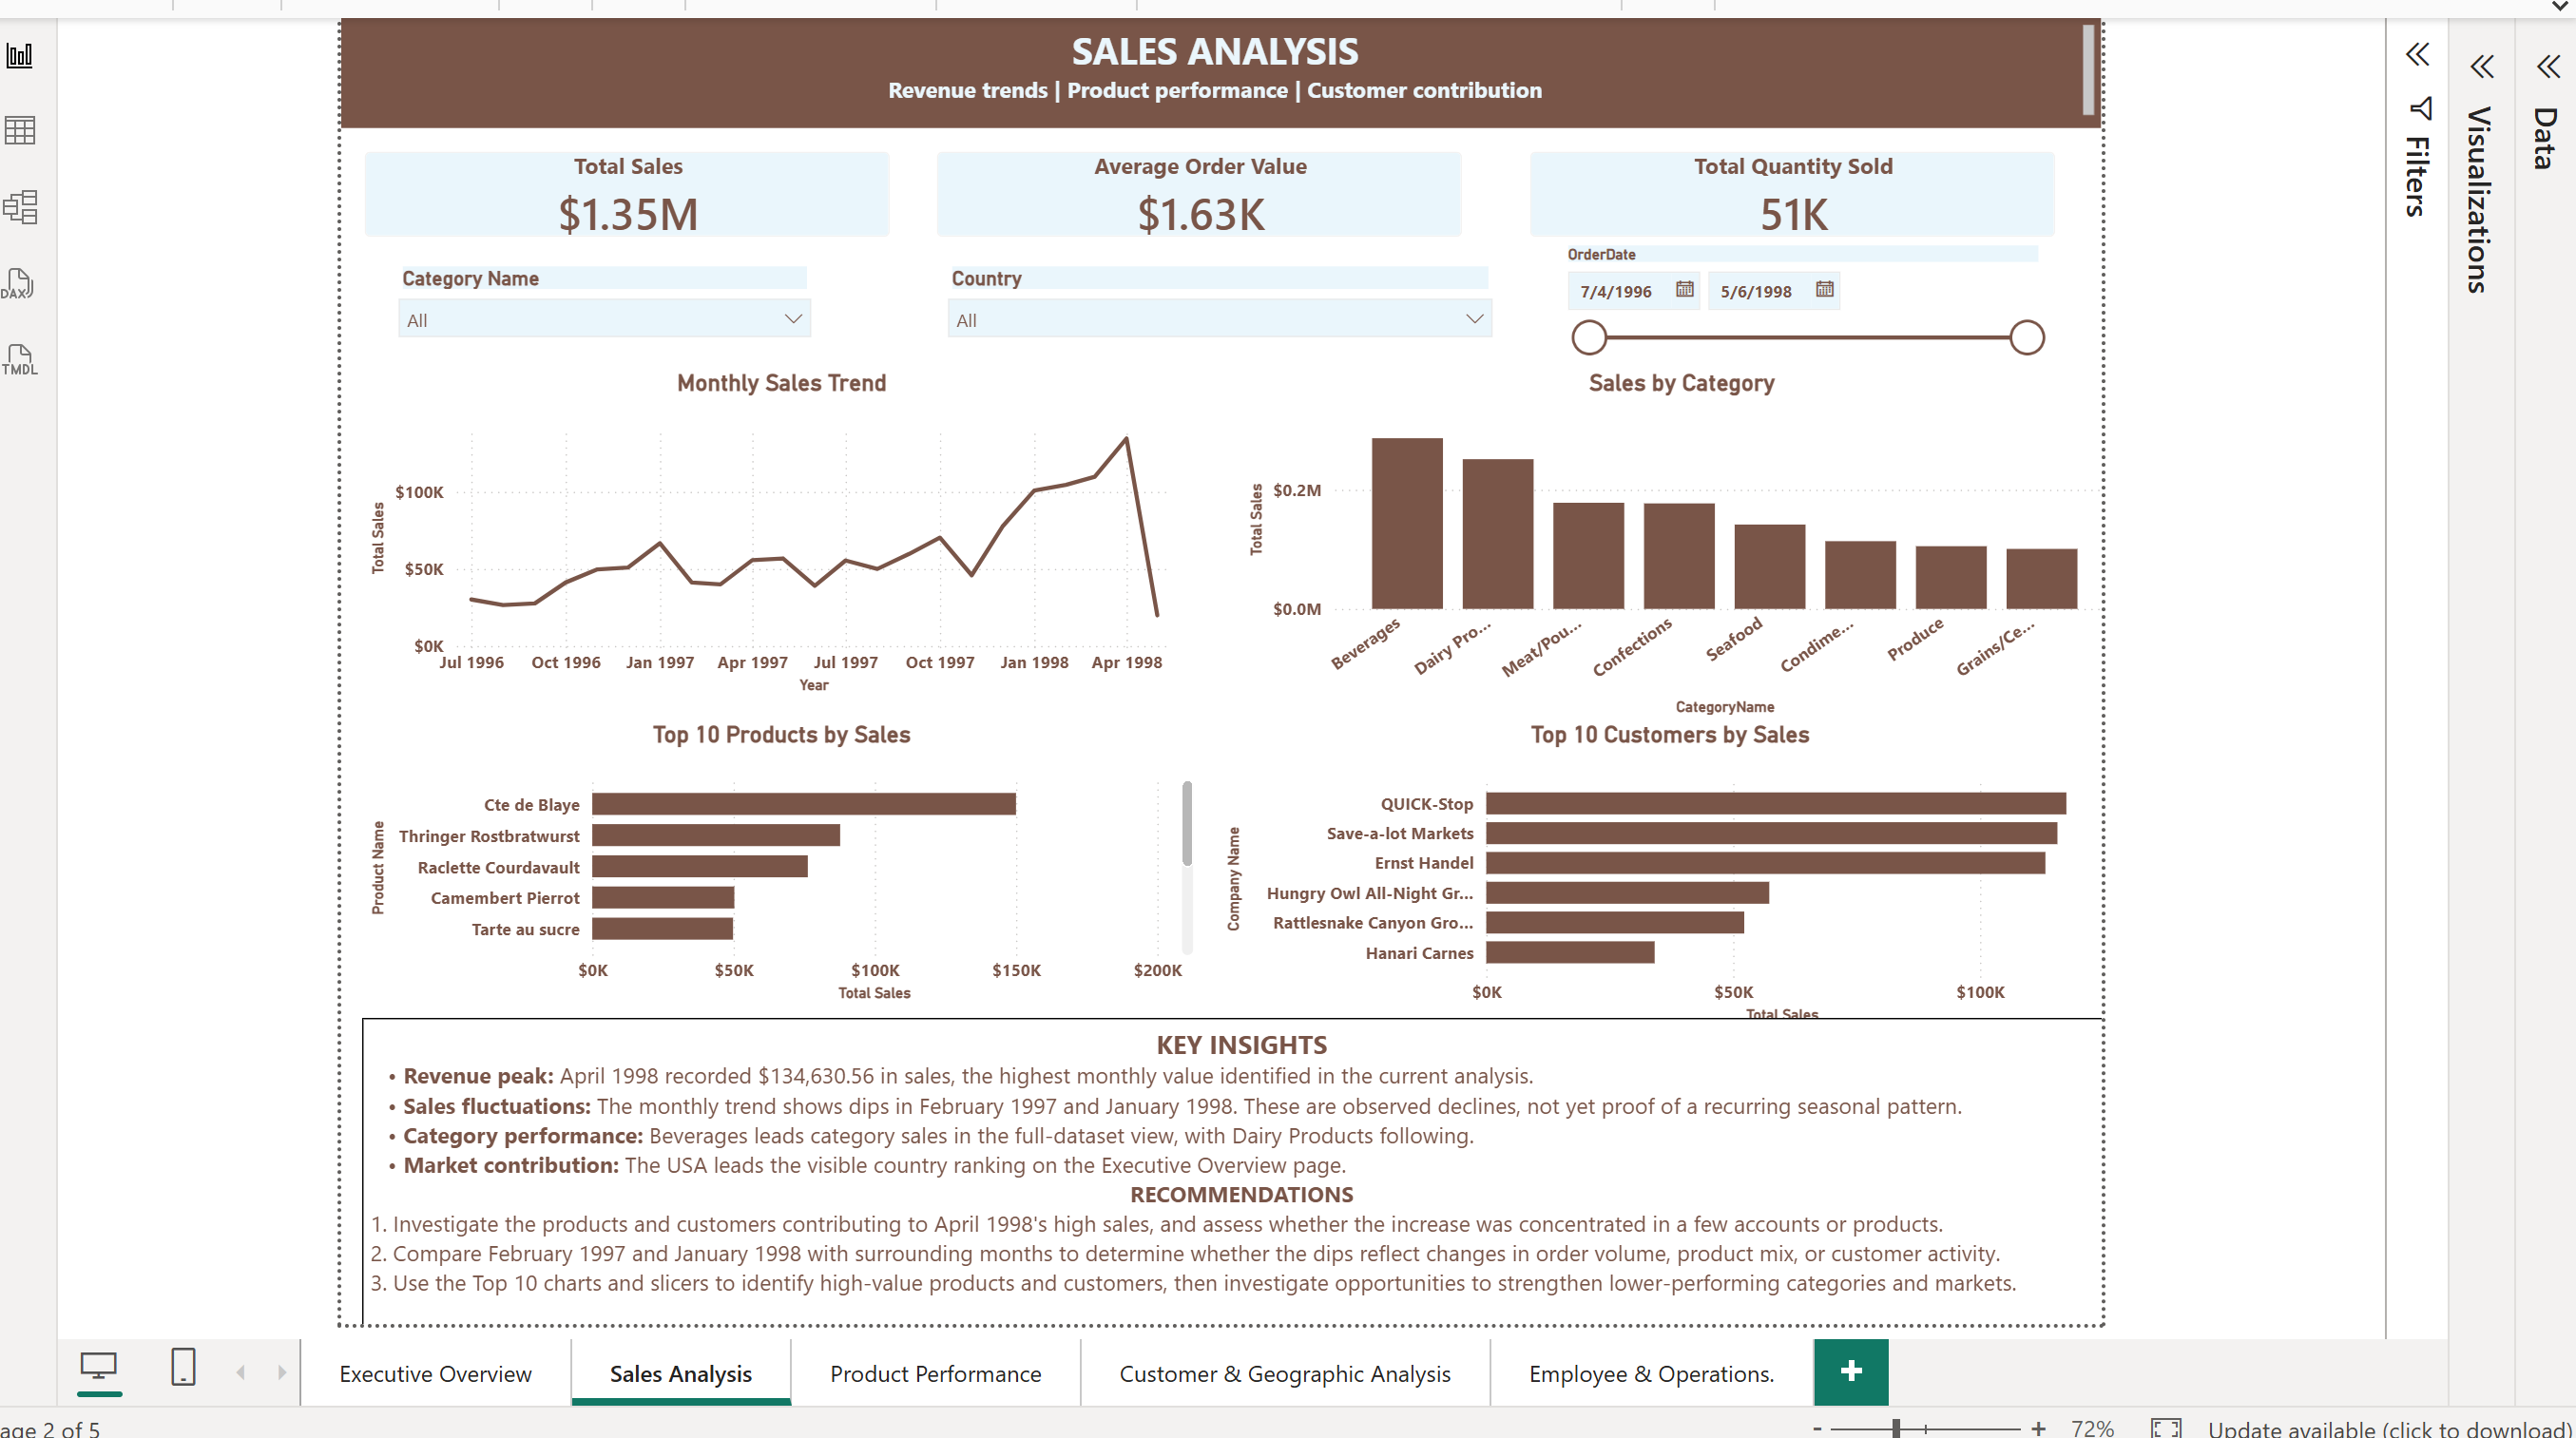

Layout of this report page (visuals, bound fields, positions):
{"tool":"powerbi","page":{"name":"Sales Analysis","canvas":[1280,950],"ordinal":1},"visuals":[{"type":"textbox","box":[0,0,1280,80],"z":0},{"type":"cardVisual","fields":{"Data":["OrderDetails.Total Sales"]},"box":[0,80,416,96],"z":1000},{"type":"cardVisual","fields":{"Data":["Orders.Average Order Value"]},"box":[416,80,416,96],"z":2000},{"type":"cardVisual","fields":{"Data":["OrderDetails.Total Quantity Sold"]},"box":[848,80,416,96],"z":3000},{"type":"slicer","fields":{"Values":["Categories.CategoryName"]},"box":[32,176,320,64],"z":4000},{"type":"slicer","fields":{"Values":["Orders.OrderDate"]},"box":[880,160,368,112],"z":5000},{"type":"slicer","fields":{"Values":["Customers.Country"]},"box":[432,176,416,64],"z":6000},{"type":"lineChart","title":"Monthly Sales Trend","fields":{"Y":["OrderDetails.Total Sales"],"Category":["Orders.OrderDate.Variation.Date Hierarchy.Year","Orders.OrderDate.Variation.Date Hierarchy.Month"]},"box":[16,256,608,240],"z":7000},{"type":"clusteredColumnChart","title":" Sales by Category","fields":{"Category":["Categories.CategoryName"],"Y":["OrderDetails.Total Sales"]},"box":[655,256,640,256],"z":8000},{"type":"clusteredBarChart","title":"Top 10 Products by Sales","fields":{"Category":["Products.ProductName"],"Y":["OrderDetails.Total Sales"]},"box":[16,512,608,208],"z":9000},{"type":"clusteredBarChart","title":"Top 10 Customers by Sales","fields":{"Category":["Customers.Company Name"],"Y":["OrderDetails.Total Sales"]},"box":[639,512,656,224],"z":10000},{"type":"textbox","box":[15,728,1280,272],"z":11000}]}

Visuals, with their boxes on the page's 1280x950 design canvas (x1, y1, x2, y2). These are canvas units, not pixel positions in the 2576x1438 screenshot, which may show the page scaled, cropped or inside an application window:
textbox: left=0, top=0, right=1280, bottom=80
cardVisual - OrderDetails.Total Sales: left=0, top=80, right=416, bottom=176
cardVisual - Orders.Average Order Value: left=416, top=80, right=832, bottom=176
cardVisual - OrderDetails.Total Quantity Sold: left=848, top=80, right=1264, bottom=176
slicer - Categories.CategoryName: left=32, top=176, right=352, bottom=240
slicer - Orders.OrderDate: left=880, top=160, right=1248, bottom=272
slicer - Customers.Country: left=432, top=176, right=848, bottom=240
"Monthly Sales Trend" lineChart: left=16, top=256, right=624, bottom=496
" Sales by Category" clusteredColumnChart: left=655, top=256, right=1295, bottom=512
"Top 10 Products by Sales" clusteredBarChart: left=16, top=512, right=624, bottom=720
"Top 10 Customers by Sales" clusteredBarChart: left=639, top=512, right=1295, bottom=736
textbox: left=15, top=728, right=1295, bottom=1000
